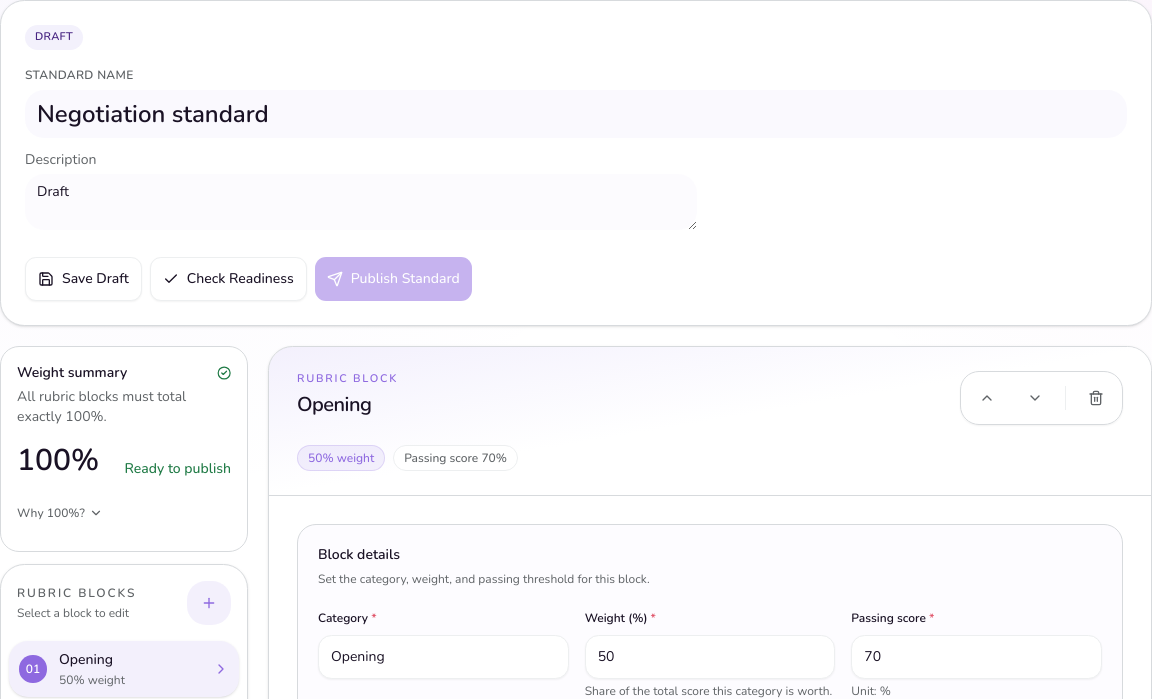
Scenario: StandardEditor human-readable server error mapping › maps a 403 response to a plain-language permission message
The image size is (1152, 699).
Click the button "Save Draft" at (83, 278), box left=25, top=256, right=142, bottom=300
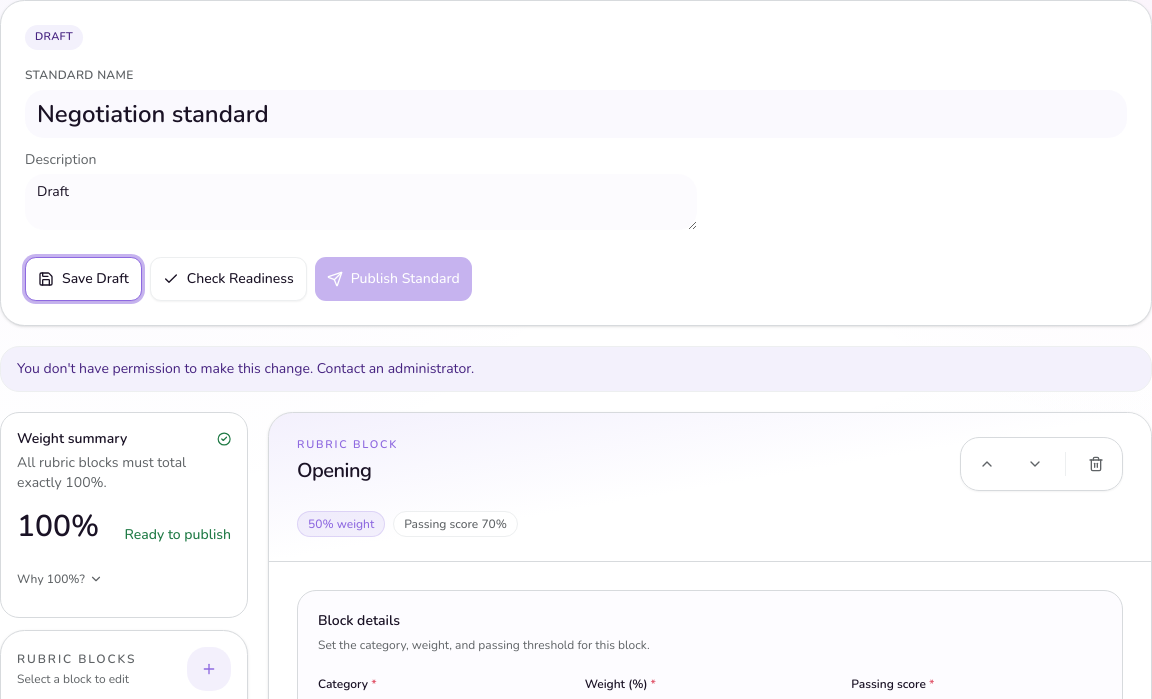
Expected: the text "You don't have permission to make this change. Contact an administrator." is shown, left=0, top=346, right=1151, bottom=392
